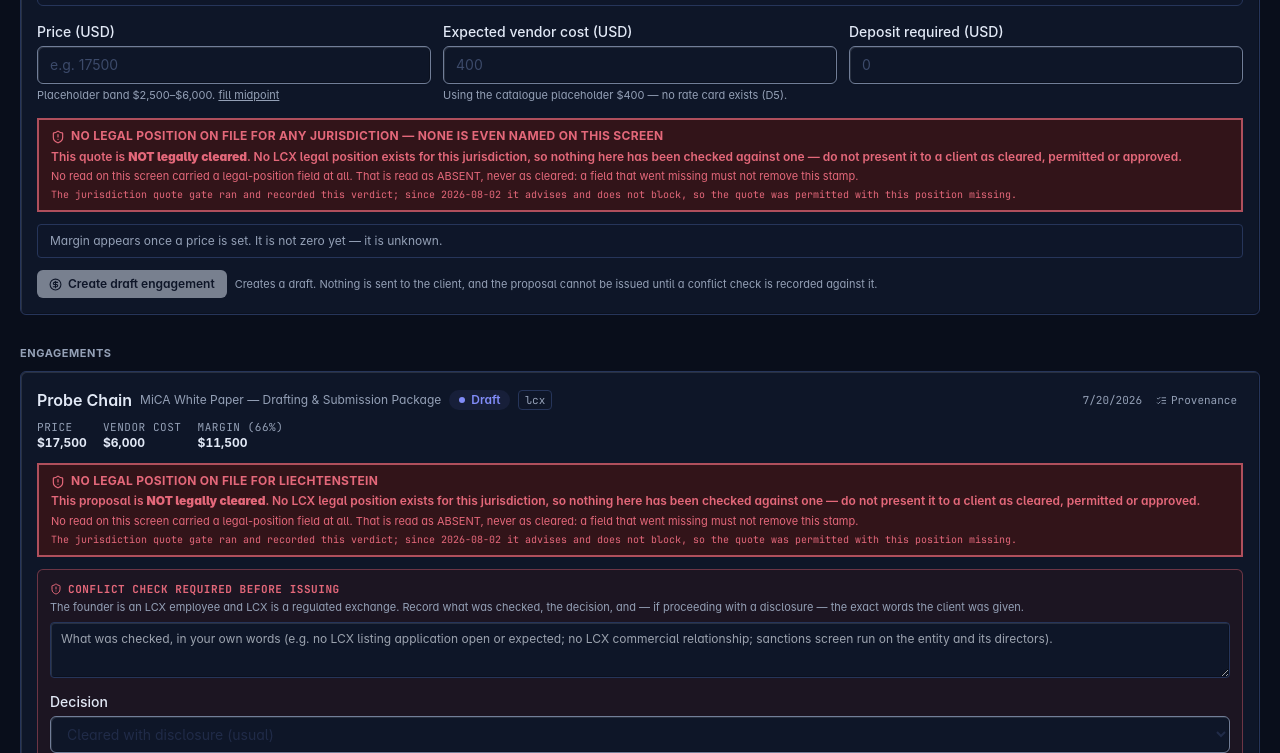
the inspector is reachable from the quote desk › says the vendor cost may be the catalogue constant rather than a typed figure
This screenshot has width=1280, height=753.
(page scrolled)
Click the button with aria-label "provenance of the".
click(1196, 400)  # box [1150,391,1243,410]
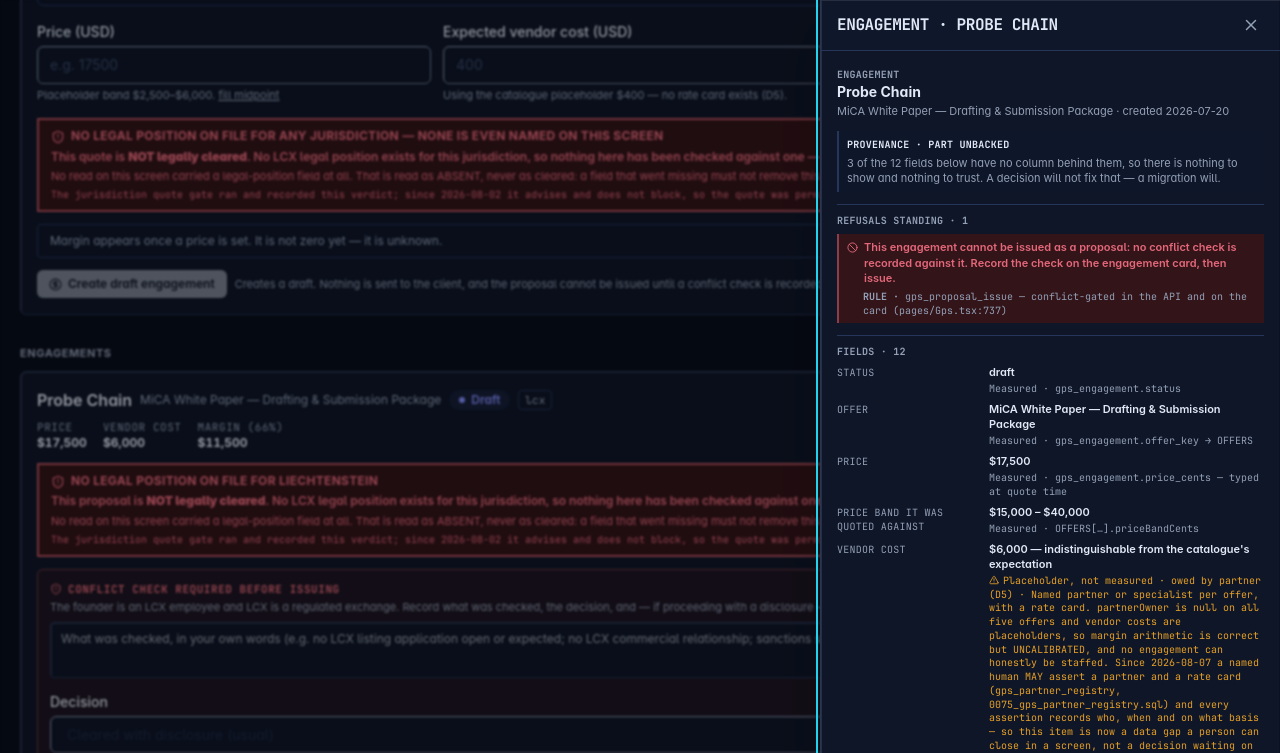
Check: the text "$6,000 — indistinguishable from the catalogue's expectation" is shown, box [989,542,1264,572]
Check: the text "Provenance · PART UNBACKED" is shown, box [847,138,1010,151]
